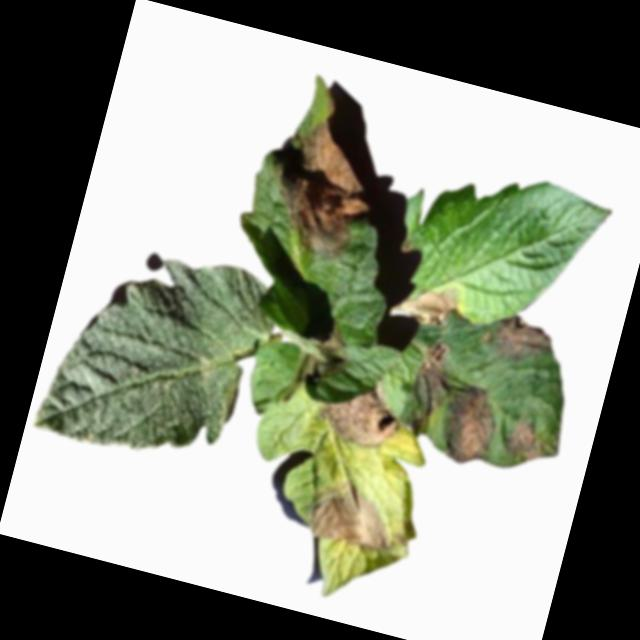Late_blight: (253, 108, 393, 268), (298, 472, 399, 557), (310, 370, 407, 454), (393, 331, 462, 438), (431, 377, 506, 472), (476, 308, 557, 371), (400, 278, 466, 330), (308, 321, 355, 385), (497, 413, 549, 466)
healthy: (32, 227, 286, 481)
